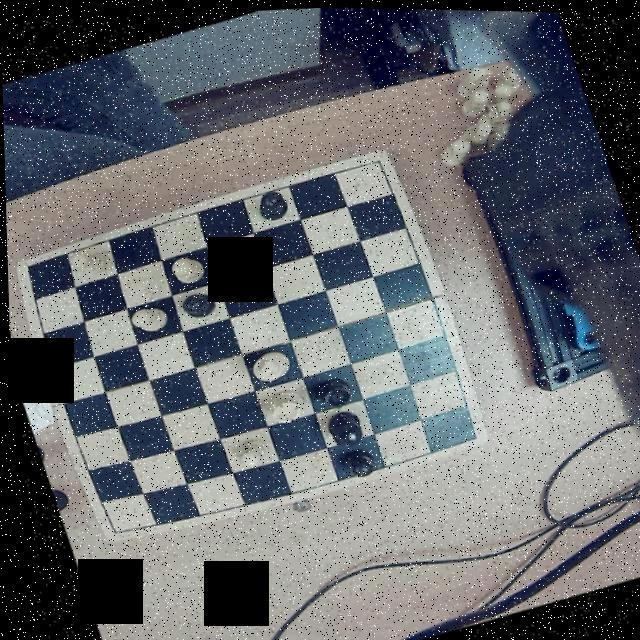chess-table-corners: (452, 417, 484, 446), (363, 148, 392, 175), (12, 254, 44, 278), (95, 514, 124, 540)
